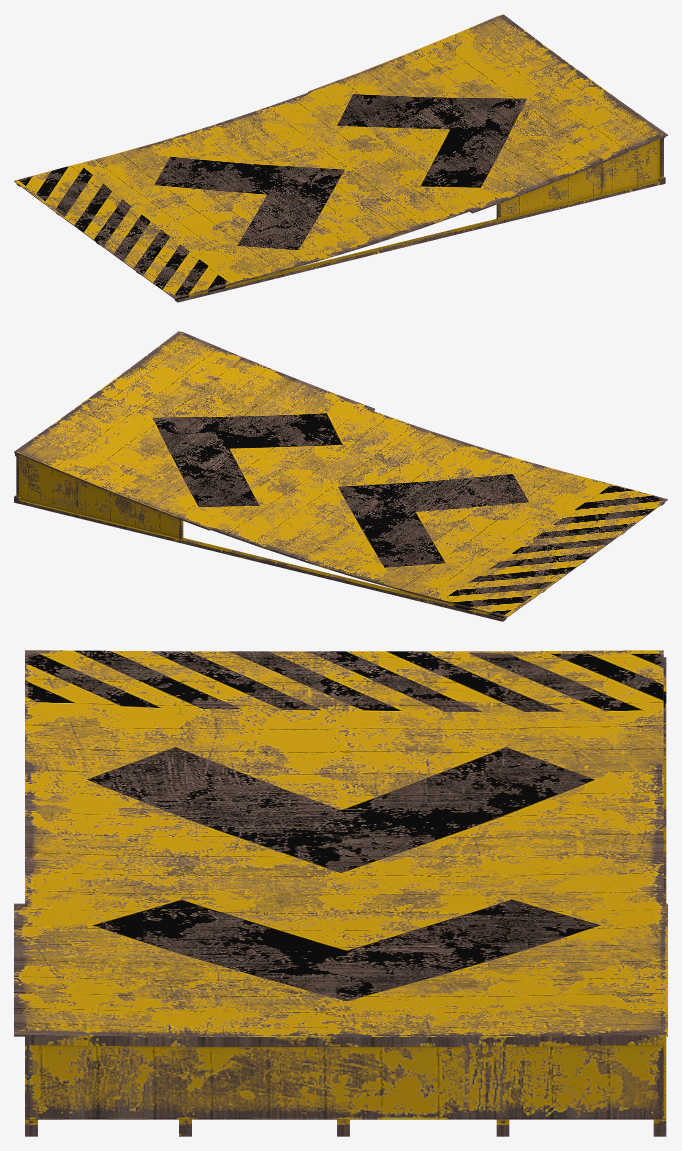
Rendered from Ramp.fbx.
The picture shows the model from 3 angles, top to bottom: view 1: azimuth 30°, elevation 25°; view 2: azimuth 150°, elevation 25°; view 3: azimuth 270°, elevation 25°; orthographic projection. The views are drawn at different scales.
Visible parts, largest first — view 1: Plane.027; view 2: Plane.027; view 3: Plane.027.
Part boxes in pixels (x1,y1,x2,y2): Plane.027: (14, 14, 667, 302); Plane.027: (14, 331, 667, 621); Plane.027: (14, 650, 667, 1136).
Bounding box in the file's own units: 1365 × 136 × 791.
